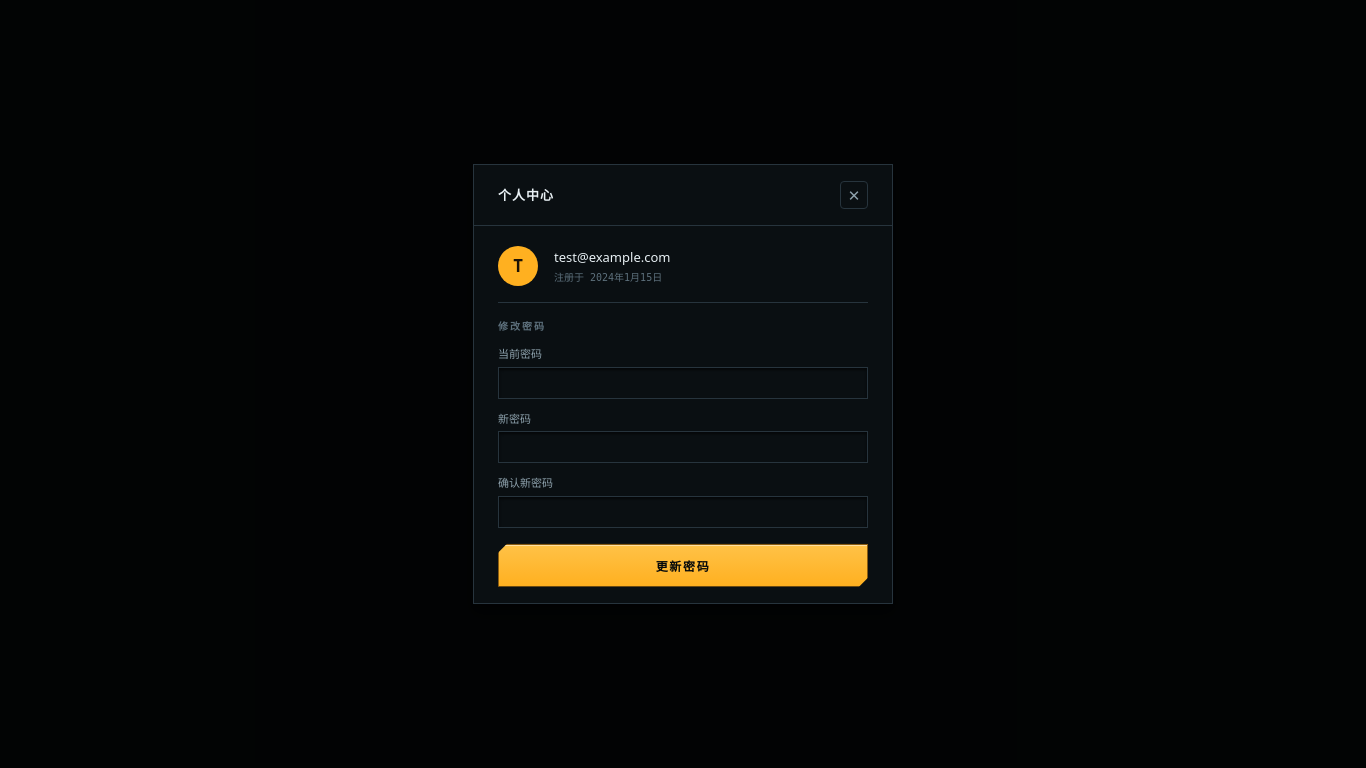
Scenario: AccountDialog › 提交密码修改 › 提交成功后显示'密码已更新'
The width and height of the screenshot is (1366, 768).
Type "oldpass" into the password field labelled "当前密码" at [683, 383], box [498,367,868,399]
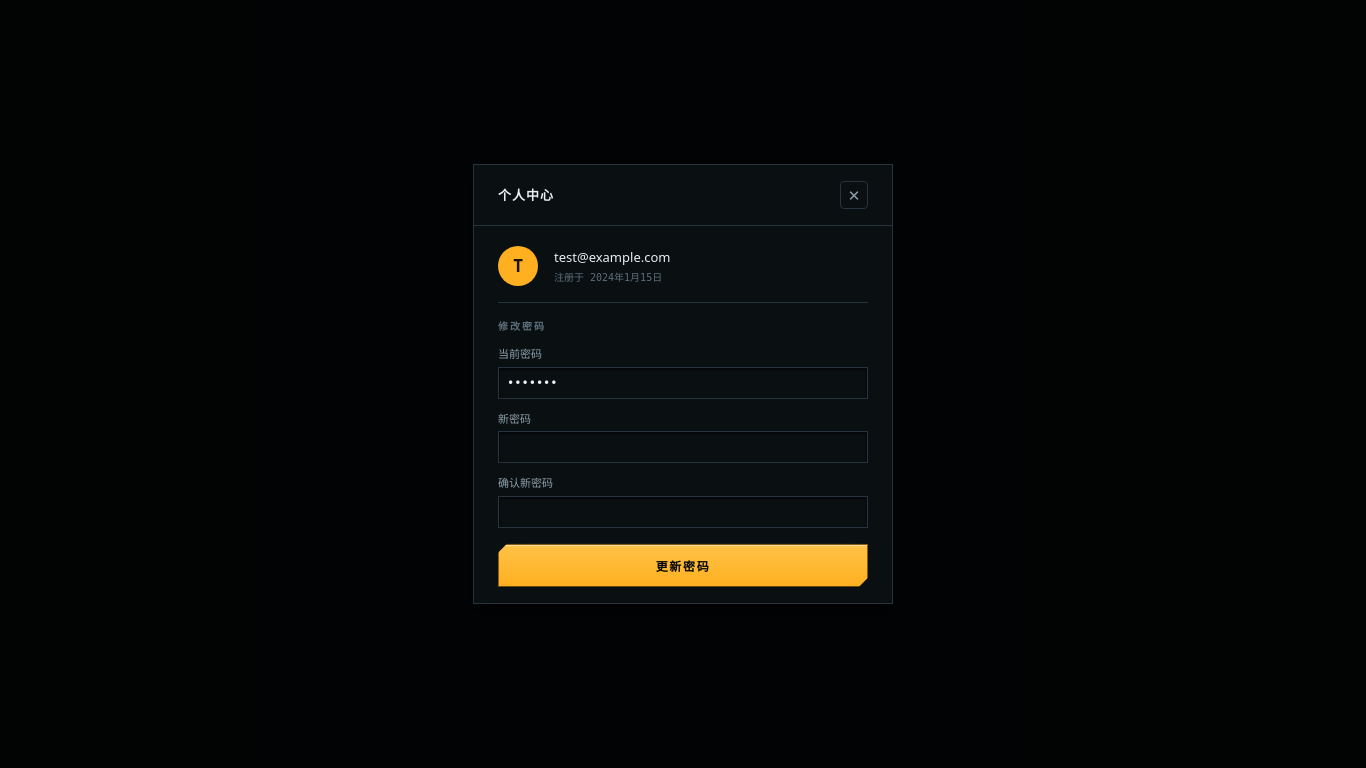
Type "newpass123" into the password field labelled "新密码" at [683, 447], box [498,431,868,463]
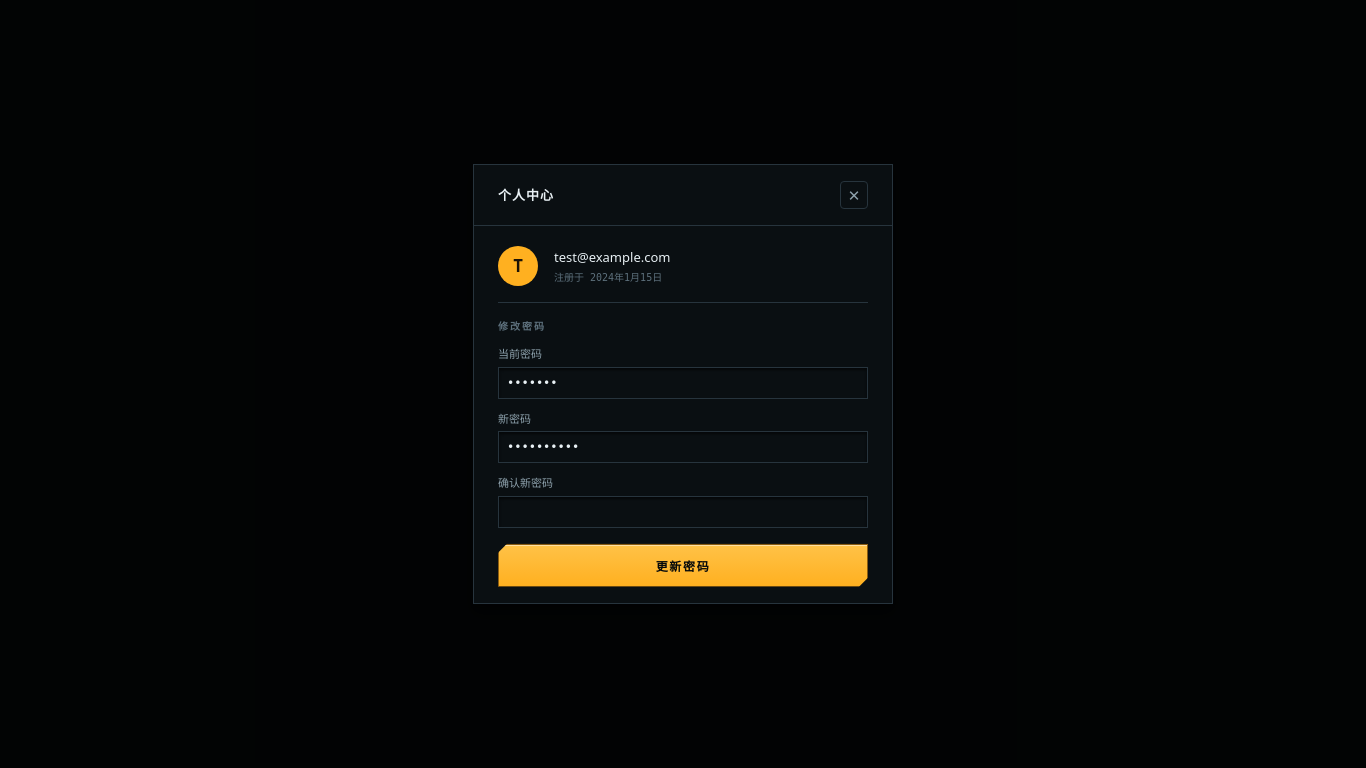
Type "newpass123" into the password field labelled "确认新密码" at [683, 512], box [498,496,868,528]
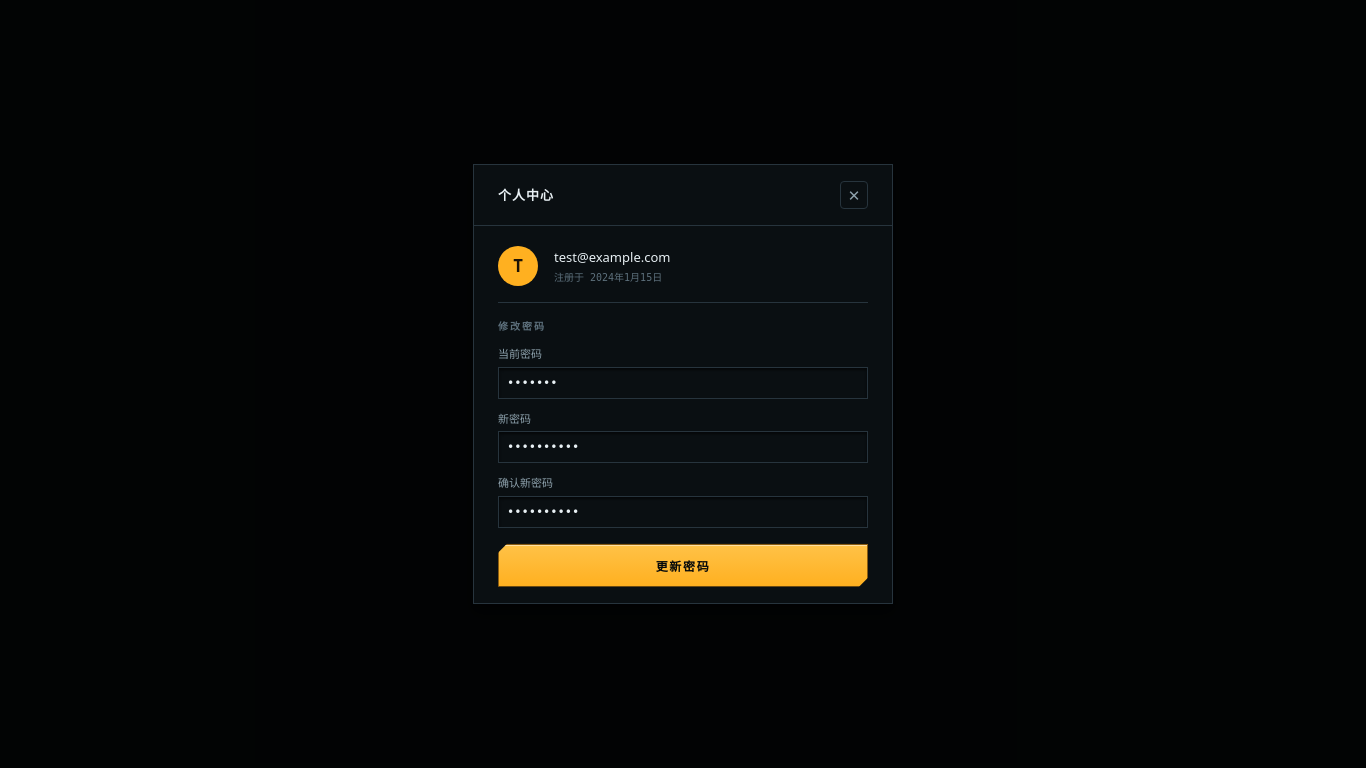
Click the button "更新密码" at [683, 565], box [498,544,868,587]
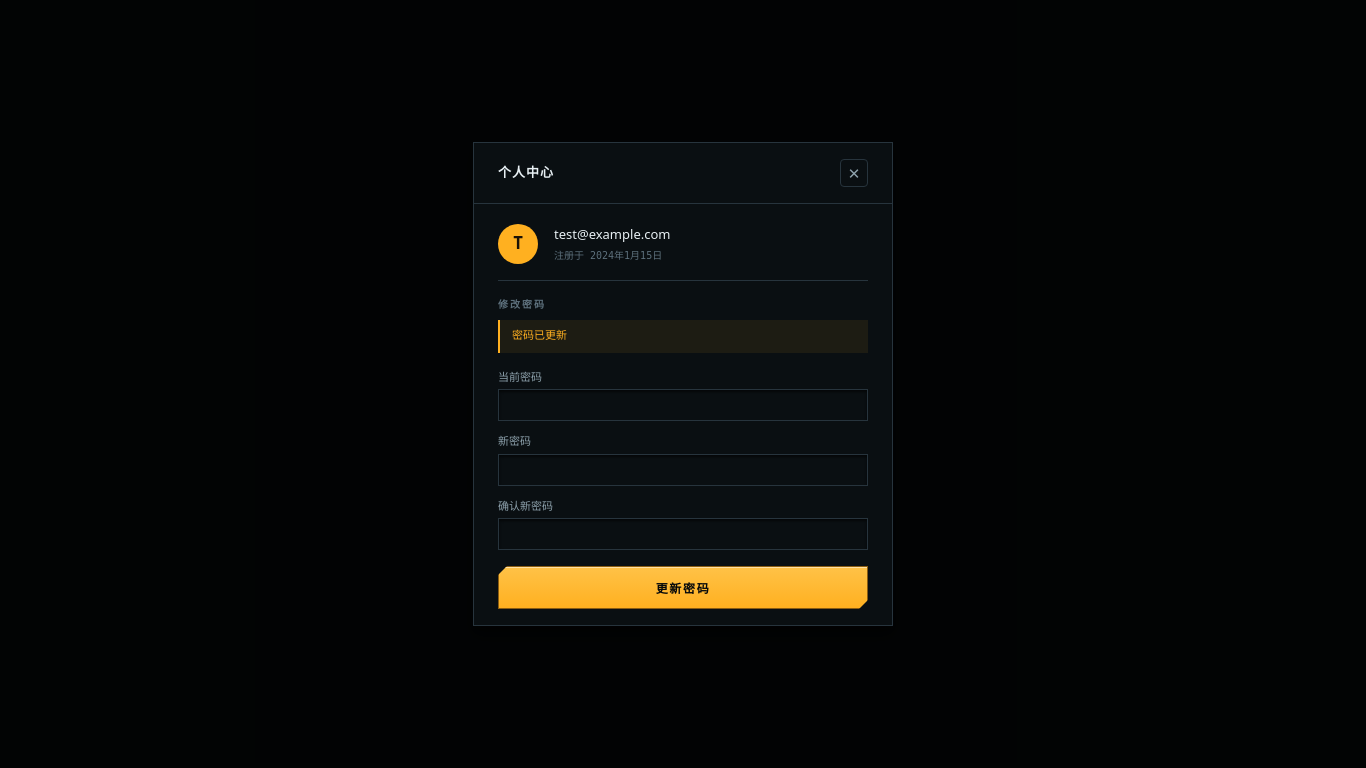
Now the text "密码已更新" is shown, box [498,320,868,352]
